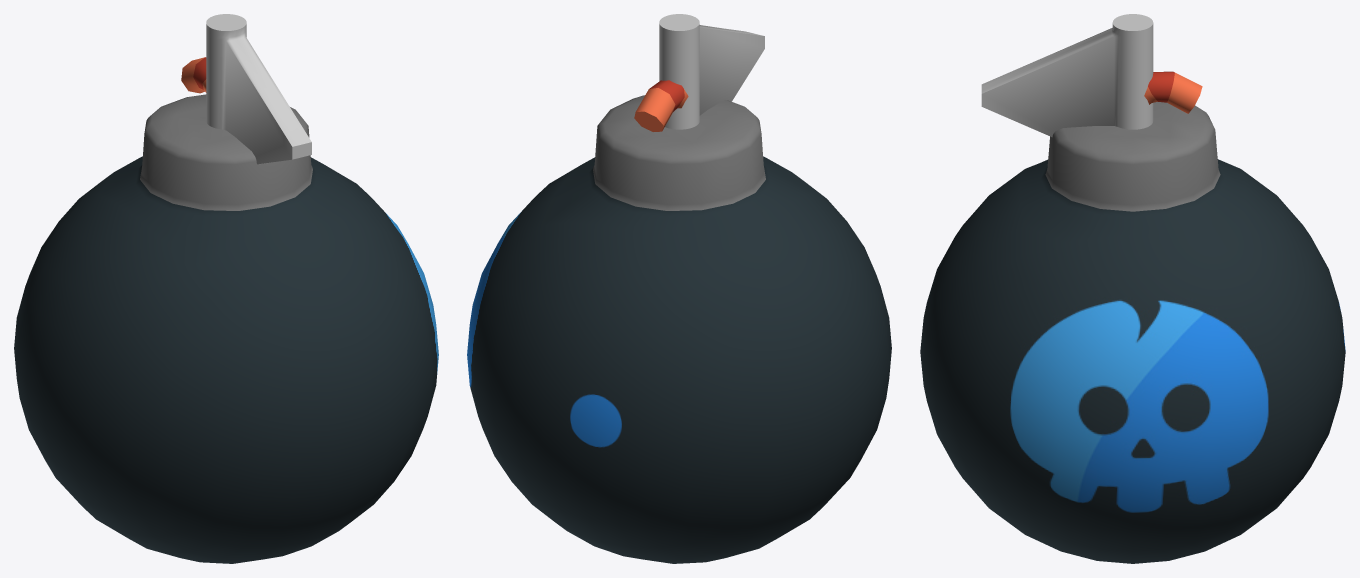
The model's file is Props.fbx.
The picture shows the model from 3 angles, left to right: view 1: azimuth 30°, elevation 25°; view 2: azimuth 150°, elevation 25°; view 3: azimuth 270°, elevation 25°; orthographic projection.
Visible parts, largest first — view 1: Bomb, Flag; view 2: Bomb, Flag; view 3: Bomb, Flag.
Boxes of the visible parts, <box> form: Bomb: <box>14,57,438,563</box>; Flag: <box>206,14,311,164</box>; Bomb: <box>467,80,891,563</box>; Flag: <box>659,14,764,129</box>; Bomb: <box>920,71,1345,563</box>; Flag: <box>981,14,1153,137</box>.
Bounding box in the file's own units: 200 × 271 × 200.
